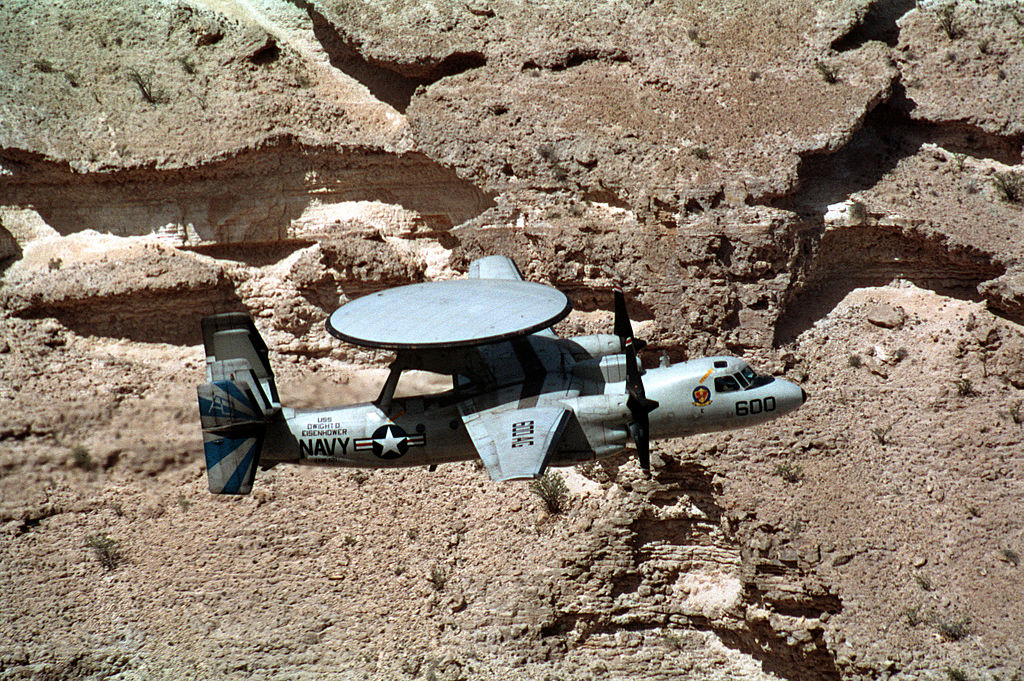E2: (196, 255, 808, 495)
